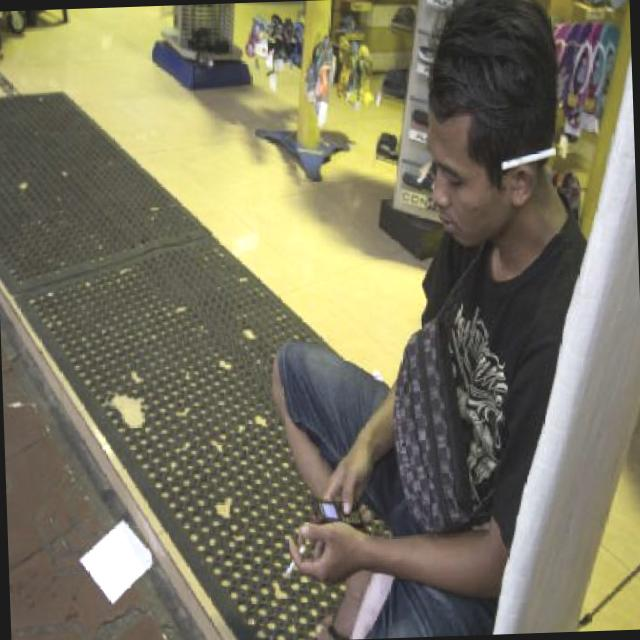Person: (250, 0, 607, 639)
